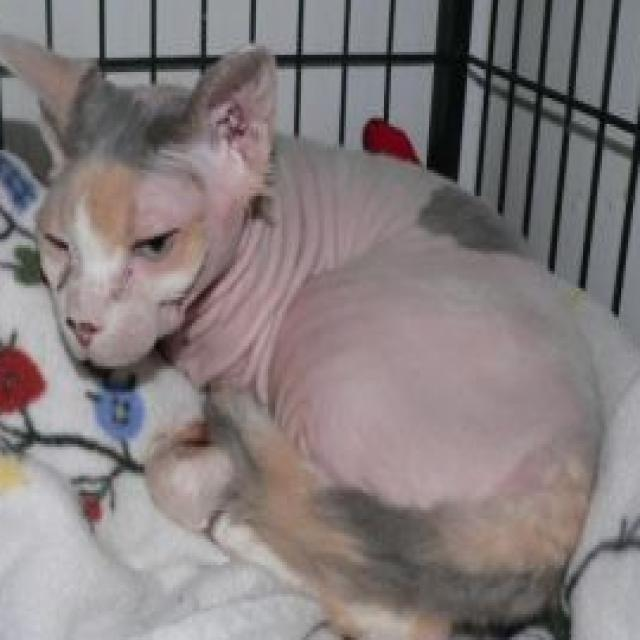Sphynx: (0, 23, 609, 640)
